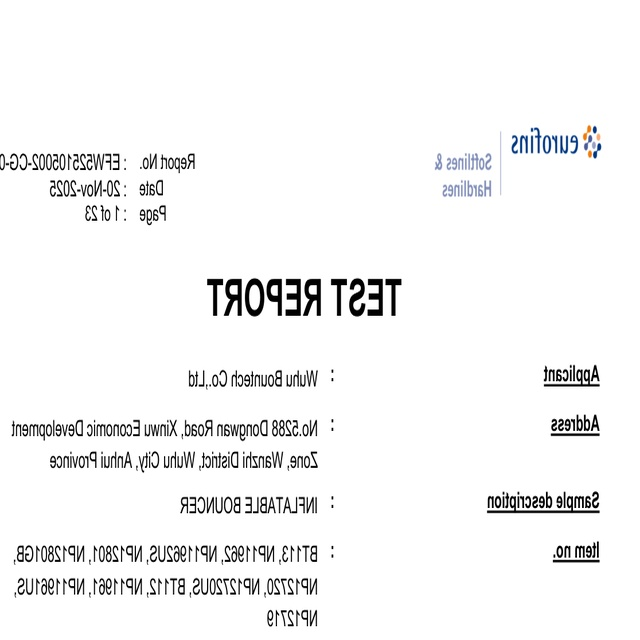eurofins: (506, 120, 606, 161)
